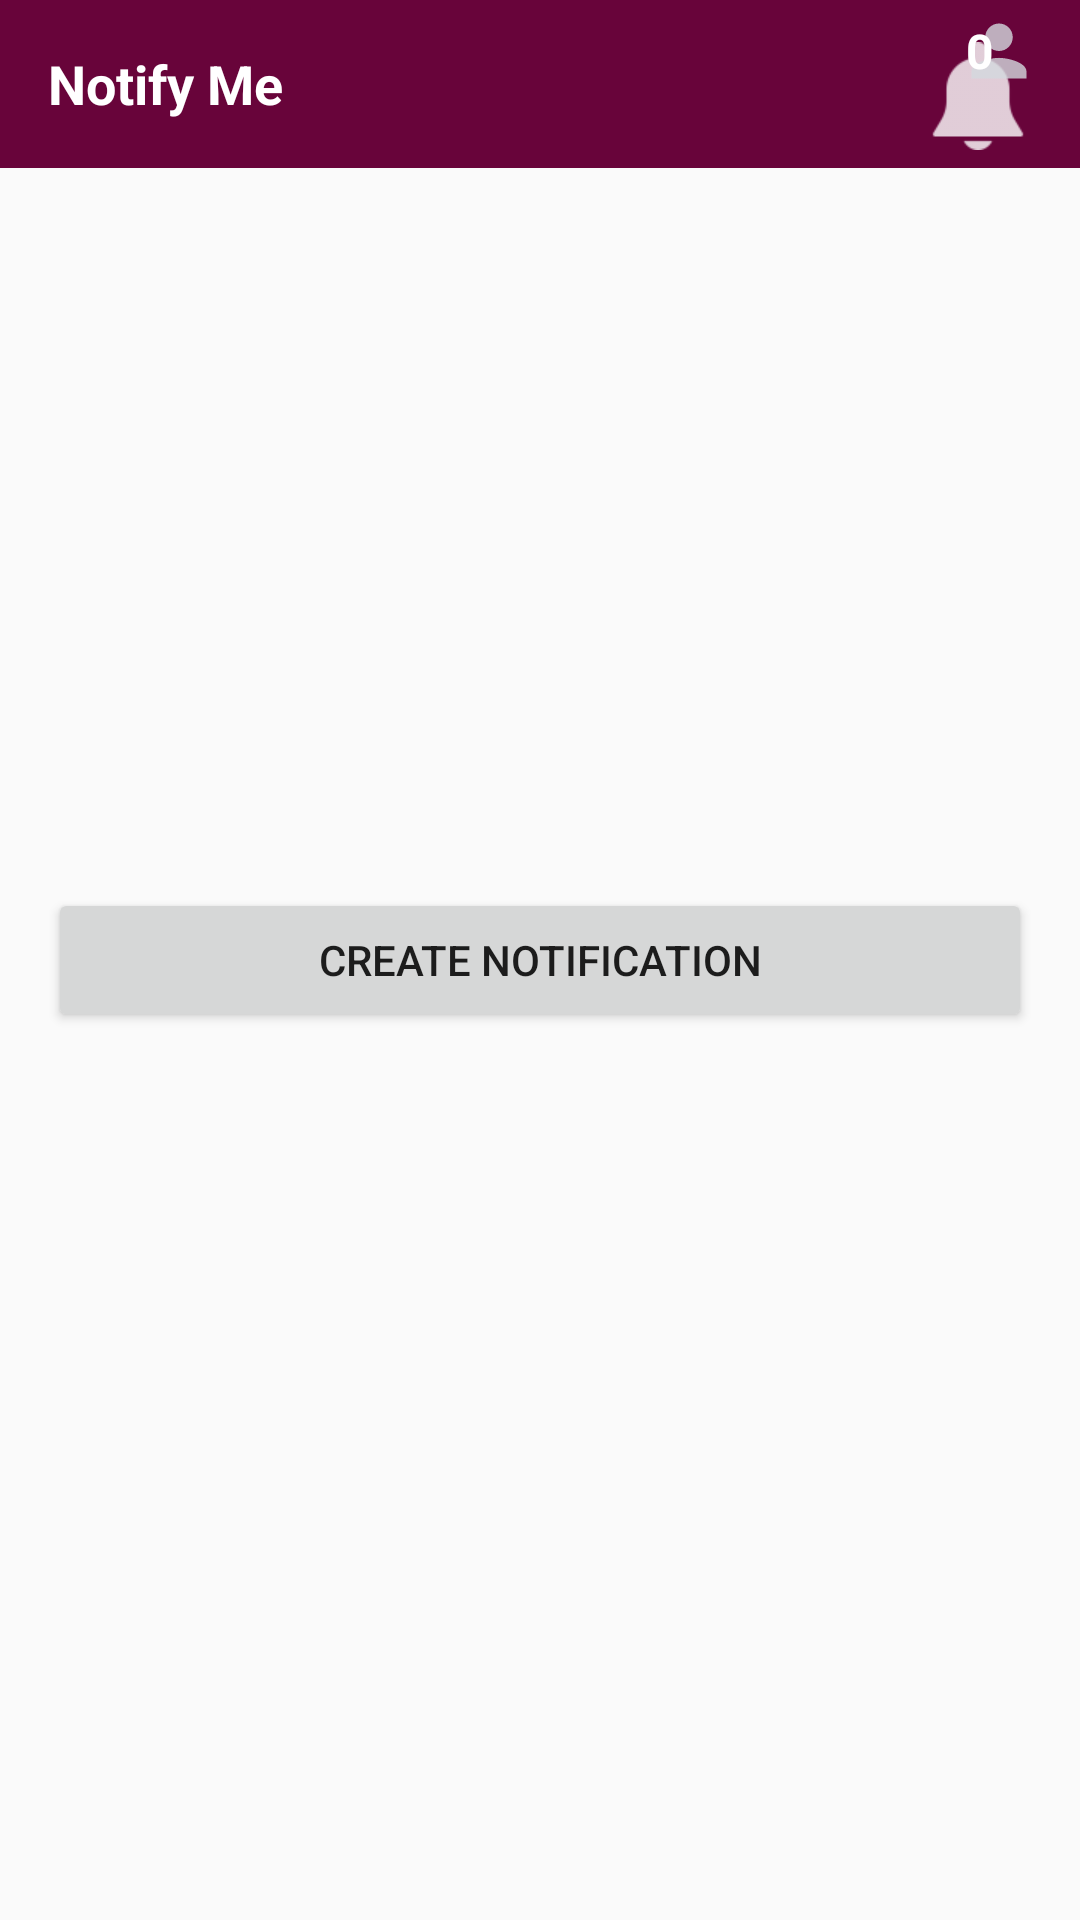

Icon bounding boxes for this 1080*1920 phone screenshot, format (x1, y1, x2, y2):
notification: (932, 42, 1027, 150)
